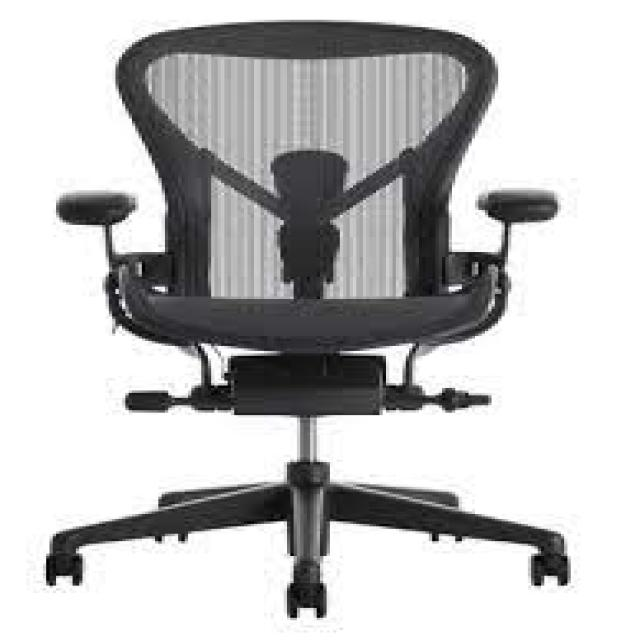chair: (4, 9, 640, 638)
